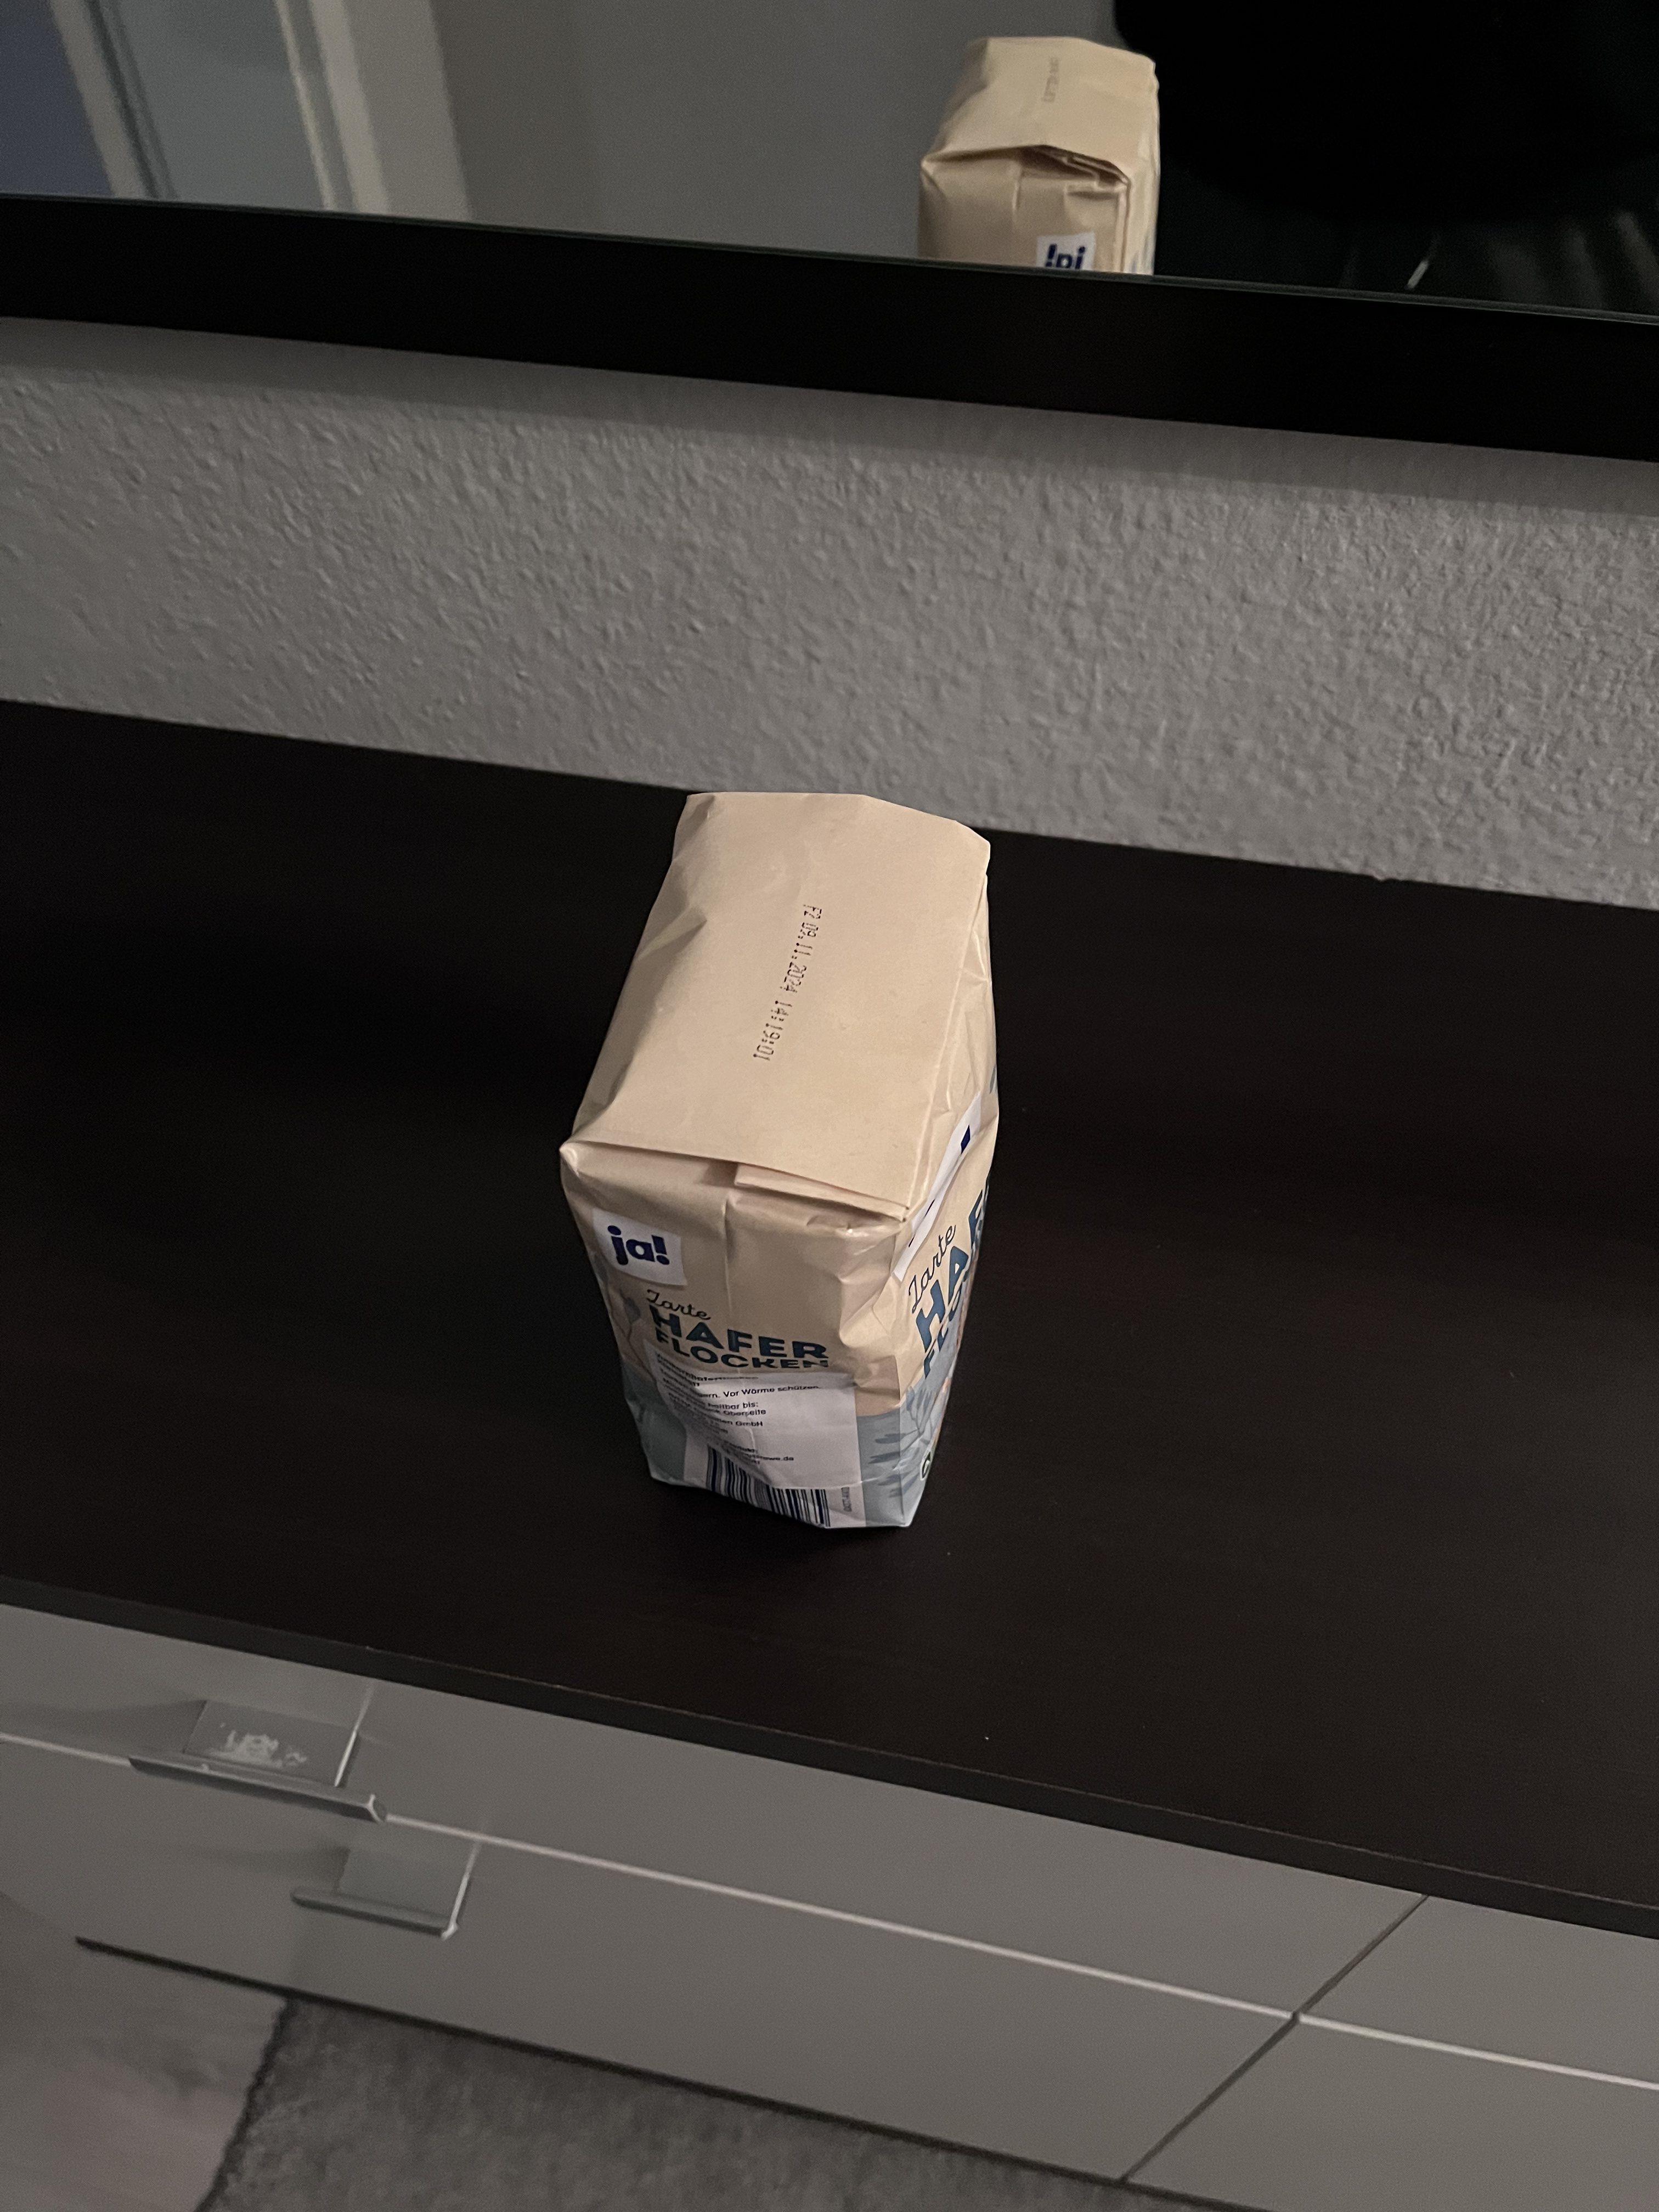haferflocken_ja: (551, 782, 1018, 1533)
